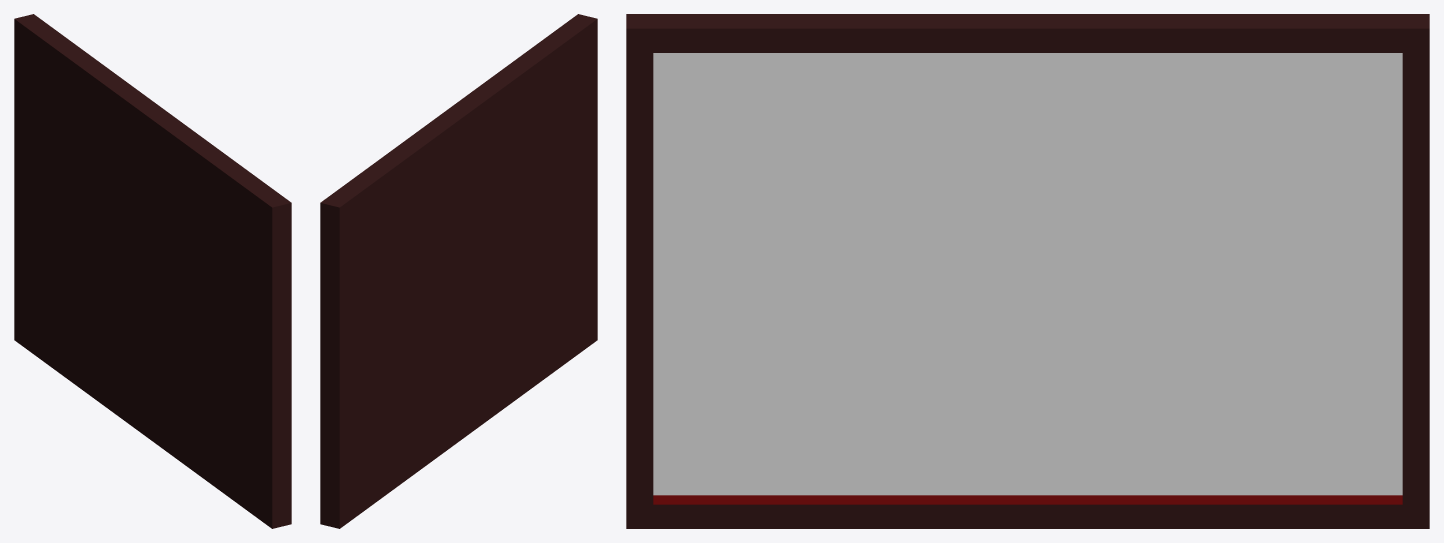
3 renders of one model, left to right at view 1: azimuth 30°, elevation 25°; view 2: azimuth 150°, elevation 25°; view 3: azimuth 270°, elevation 25°, orthographic. The views are drawn at different scales.
Parts seen in each view (by area): view 1: hogwarts poster; view 2: hogwarts poster; view 3: hogwarts poster.
Part boxes in pixels (box(x1,y1,x2,y2)): hogwarts poster: box(14, 14, 291, 528); hogwarts poster: box(320, 14, 597, 528); hogwarts poster: box(626, 14, 1429, 528).
Bounding box in the file's own units: 2.75 × 43.3 × 63.01.
